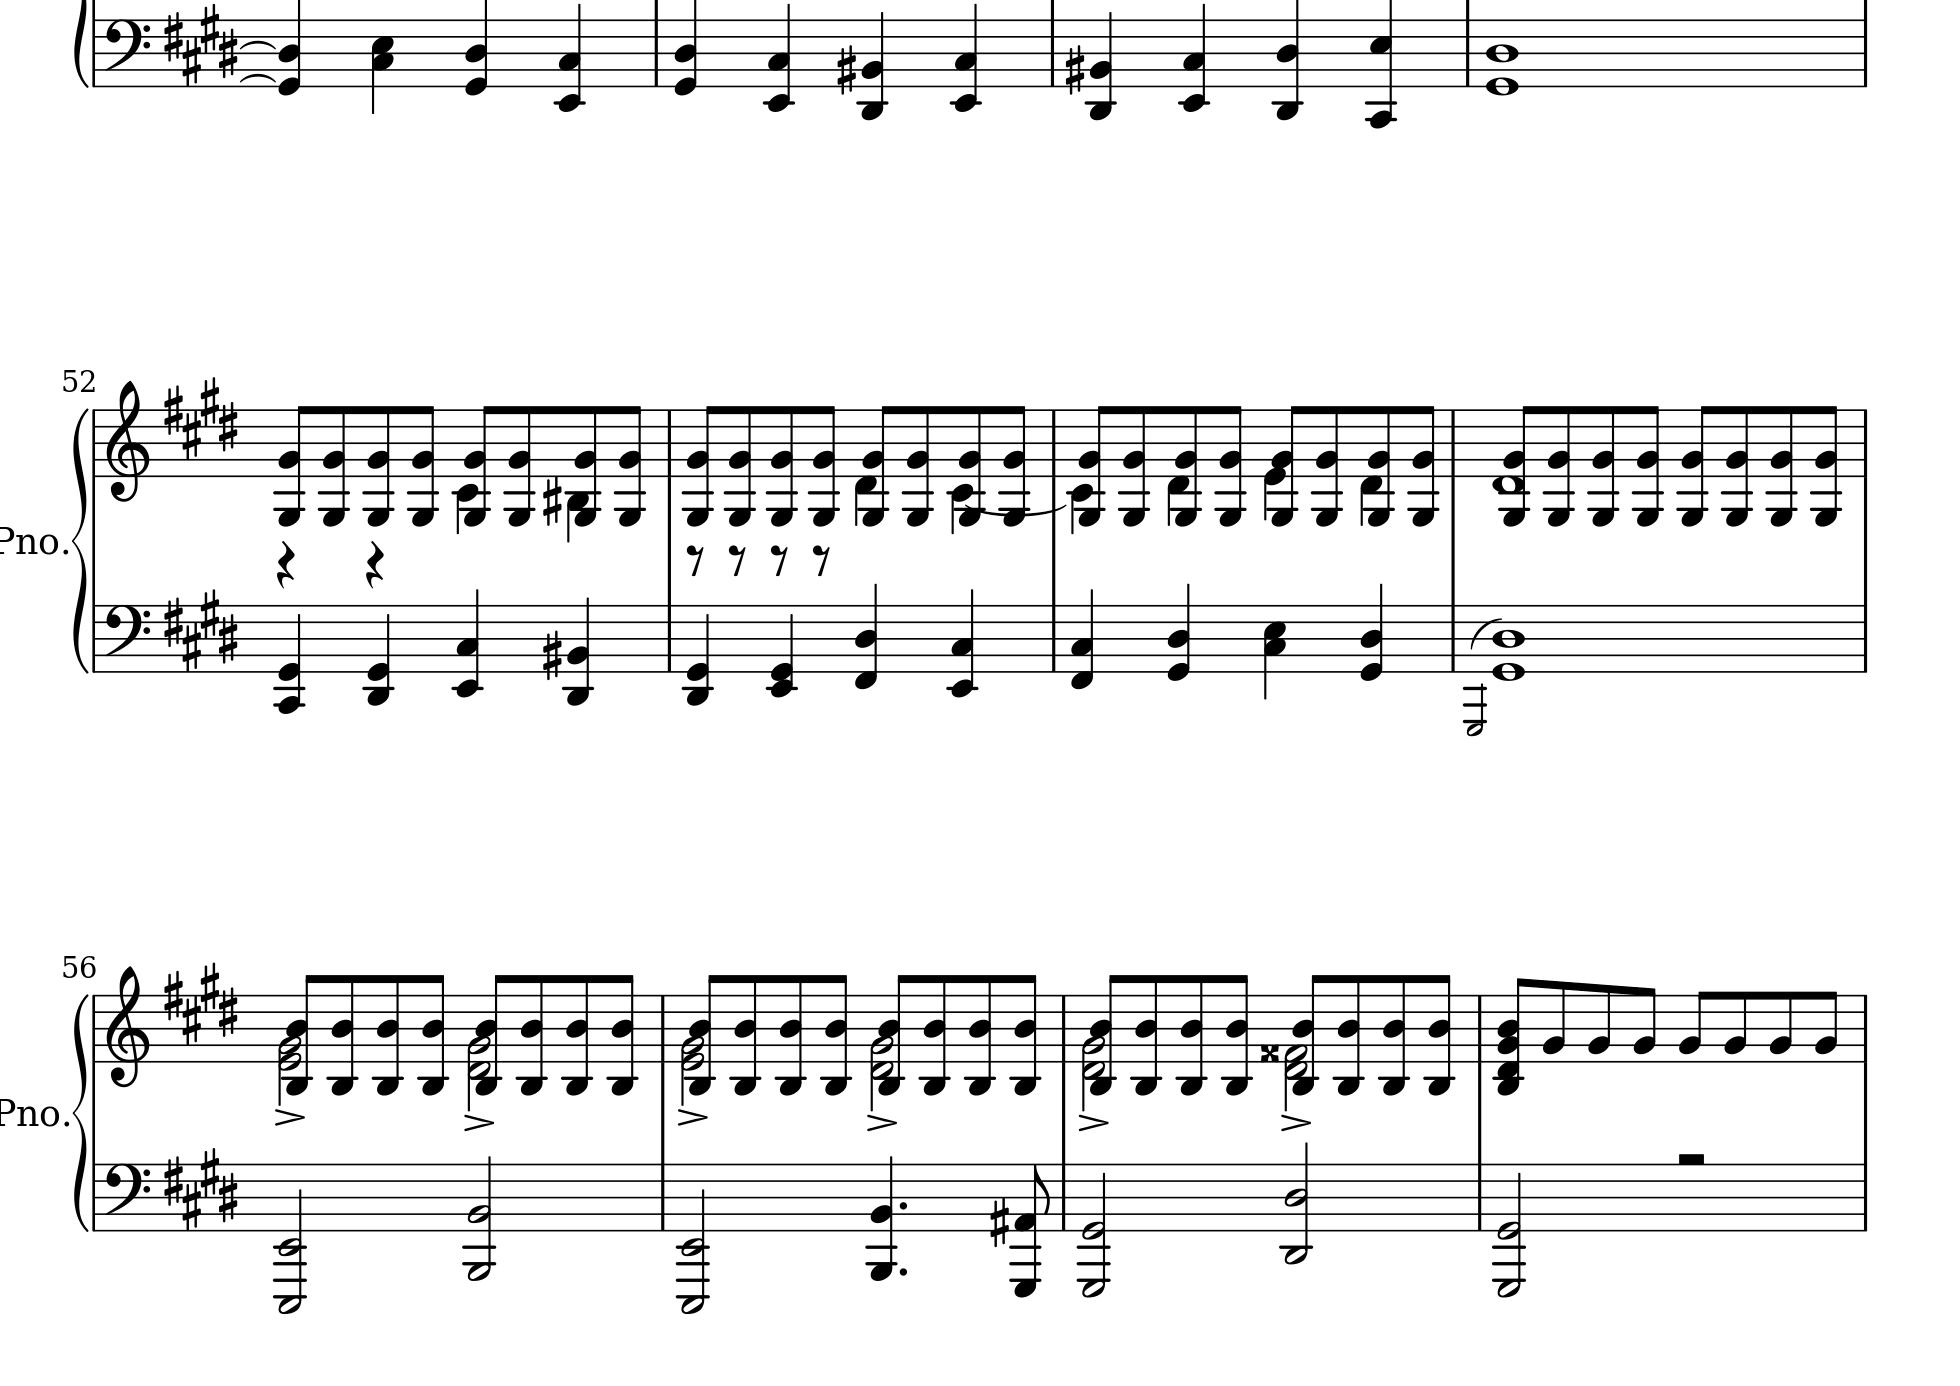1_0_4: (1491, 604, 1530, 685), (1485, 18, 1522, 97)
2: (78, 366, 96, 393)
2_-3_4: (1281, 1141, 1314, 1267)
2_-5_2: (463, 1155, 496, 1282)
2_-7_0: (1492, 1162, 1527, 1299), (1077, 1162, 1110, 1299)
2_-9_-2: (271, 1162, 309, 1317), (673, 1162, 711, 1312)
4_-1_3: (1068, 589, 1098, 691)
4_-1_4: (850, 582, 879, 691)
4_-2_0: (766, 601, 801, 697)
4_-2_3: (943, 588, 981, 699), (552, 1, 586, 112), (450, 586, 484, 697), (762, 1, 795, 114), (949, 1, 982, 114), (1177, 1, 1209, 114)
4_-3_0: (361, 604, 397, 708), (682, 601, 714, 709)
4_-3_2: (562, 597, 597, 706), (1084, 9, 1117, 121), (858, 9, 886, 121)
4_-3_4: (1270, 1, 1303, 121)
4_-4_0: (273, 604, 307, 715)
4_-4_5: (1362, 1, 1398, 129)
4_-5_2: (865, 1156, 900, 1281)
4_0_4: (1164, 583, 1192, 682), (1357, 585, 1386, 682), (672, 1, 699, 97), (277, 1, 304, 96), (463, 1, 489, 99)
4_3_5: (1263, 601, 1290, 702), (370, 18, 396, 115)
5: (61, 951, 79, 979), (61, 364, 78, 393)
6: (79, 949, 97, 979)
8_-3_4: (1174, 970, 1209, 1096), (1005, 970, 1039, 1096), (963, 970, 997, 1096), (874, 970, 909, 1096), (559, 970, 594, 1096), (325, 970, 360, 1096), (1423, 973, 1458, 1098), (1290, 970, 1324, 1095), (1216, 972, 1251, 1096), (1129, 969, 1164, 1093), (1087, 970, 1122, 1095), (817, 972, 852, 1096), (774, 972, 808, 1096), (727, 972, 762, 1096), (601, 972, 636, 1096), (414, 973, 448, 1098), (283, 972, 318, 1096), (916, 970, 949, 1096), (685, 970, 718, 1096), (514, 970, 547, 1096), (472, 970, 505, 1096), (370, 970, 403, 1096), (1377, 972, 1410, 1096), (1332, 970, 1365, 1095)
8_-5_2: (1722, 402, 1755, 526), (1632, 402, 1665, 526), (1119, 402, 1152, 526), (1077, 402, 1110, 526), (955, 400, 988, 525), (901, 403, 934, 528), (859, 402, 892, 526), (805, 400, 838, 525), (406, 403, 439, 528), (1680, 403, 1713, 526), (1587, 403, 1620, 526), (1542, 403, 1575, 526), (1497, 403, 1530, 526), (1407, 403, 1440, 526), (1215, 403, 1248, 526), (277, 403, 310, 526), (1312, 402, 1344, 526), (1171, 402, 1203, 526), (1000, 400, 1032, 525), (724, 400, 756, 525), (612, 402, 643, 526), (570, 403, 601, 528), (361, 403, 393, 528), (319, 403, 351, 528), (1812, 403, 1843, 526), (1767, 403, 1798, 526), (1365, 403, 1396, 526), (1269, 403, 1300, 526), (766, 403, 798, 526), (685, 403, 717, 526), (502, 403, 534, 526), (463, 403, 495, 526)
8_-7_1: (1011, 1162, 1051, 1297)
8_2: (1677, 988, 1710, 1063), (1585, 982, 1612, 1063), (1542, 978, 1567, 1063), (1722, 988, 1749, 1063), (1632, 985, 1657, 1063), (1768, 988, 1794, 1063), (1813, 988, 1839, 1063)
8_4th: (1494, 976, 1531, 1096)
Accent_above: (862, 1110, 898, 1132), (1075, 1111, 1111, 1134), (675, 1105, 709, 1128), (460, 1111, 496, 1132), (1278, 1111, 1314, 1132), (271, 1105, 306, 1126)
B_S: (160, 1, 241, 88)
Brace: (70, 403, 90, 673), (70, 991, 90, 1233)
DSharp: (1260, 1044, 1281, 1062)
E_S: (162, 1144, 241, 1231), (160, 588, 241, 672), (160, 376, 240, 462), (160, 961, 240, 1045)
Fclef: (102, 1161, 151, 1234), (102, 603, 151, 675), (103, 16, 151, 88)
Gclef: (103, 378, 151, 502), (103, 964, 150, 1089)
Pno: (1, 1093, 60, 1132), (1, 523, 58, 561)
Rests2: (1674, 1147, 1710, 1170)
Rests4: (274, 538, 297, 591), (364, 540, 385, 591)
Rests8: (724, 541, 748, 577), (808, 541, 832, 577), (768, 541, 790, 576), (685, 541, 706, 577)
Sharp: (1062, 40, 1087, 96), (834, 42, 859, 96), (540, 628, 564, 682), (987, 1195, 1011, 1248), (540, 475, 562, 528)
Single_barline: (1443, 409, 1462, 477), (1444, 604, 1462, 672), (1054, 994, 1072, 1062), (1471, 994, 1489, 1062), (654, 1162, 672, 1230), (1470, 1162, 1488, 1230), (654, 994, 672, 1060), (1857, 408, 1873, 478), (1857, 604, 1873, 673), (648, 18, 664, 85), (1857, 18, 1873, 85), (661, 604, 678, 672), (1857, 994, 1873, 1062), (1044, 19, 1060, 85), (1459, 19, 1476, 85), (1045, 409, 1062, 475), (1054, 1162, 1071, 1228), (1857, 1164, 1873, 1230), (88, 1162, 103, 1230), (661, 409, 676, 475), (1047, 604, 1062, 670), (88, 19, 102, 87), (88, 604, 102, 672), (88, 994, 102, 1062), (88, 409, 100, 477)
Slur: (240, 72, 276, 84), (238, 39, 276, 49)
dot: (897, 1264, 910, 1278), (897, 1198, 910, 1210)
